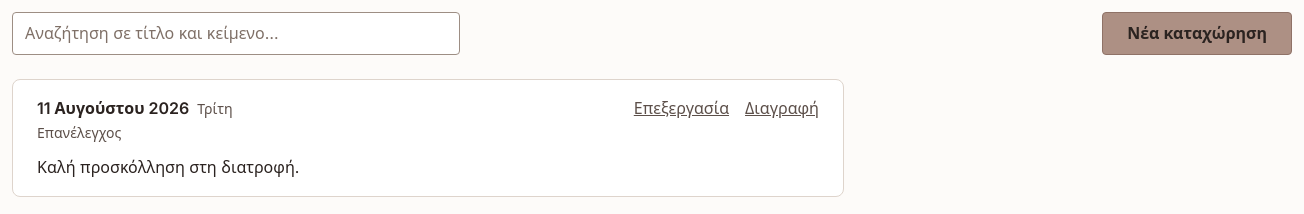
Scenario: JournalTab › should say that a search matched nothing, differently from having no entries at all
The image size is (1304, 214).
Check: the text "Επανέλεγχος" is shown, box [37,124,121,141]
Type "ξξξ" into the search field at [236, 33], box [12,12,460,55]
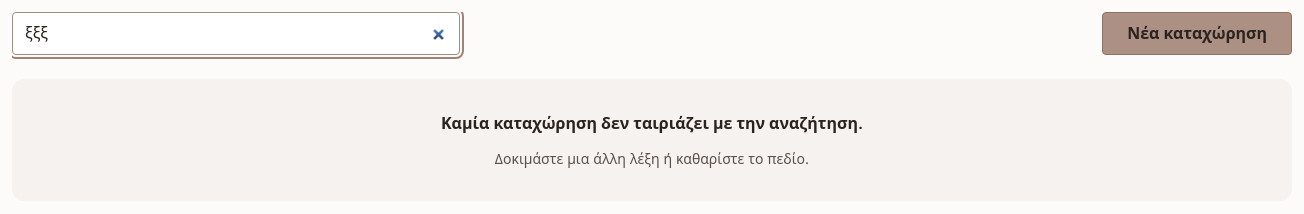
Check: the text "Καμία καταχώρηση δεν ταιριάζει με την αναζήτηση." is shown, box [441,111,863,136]
